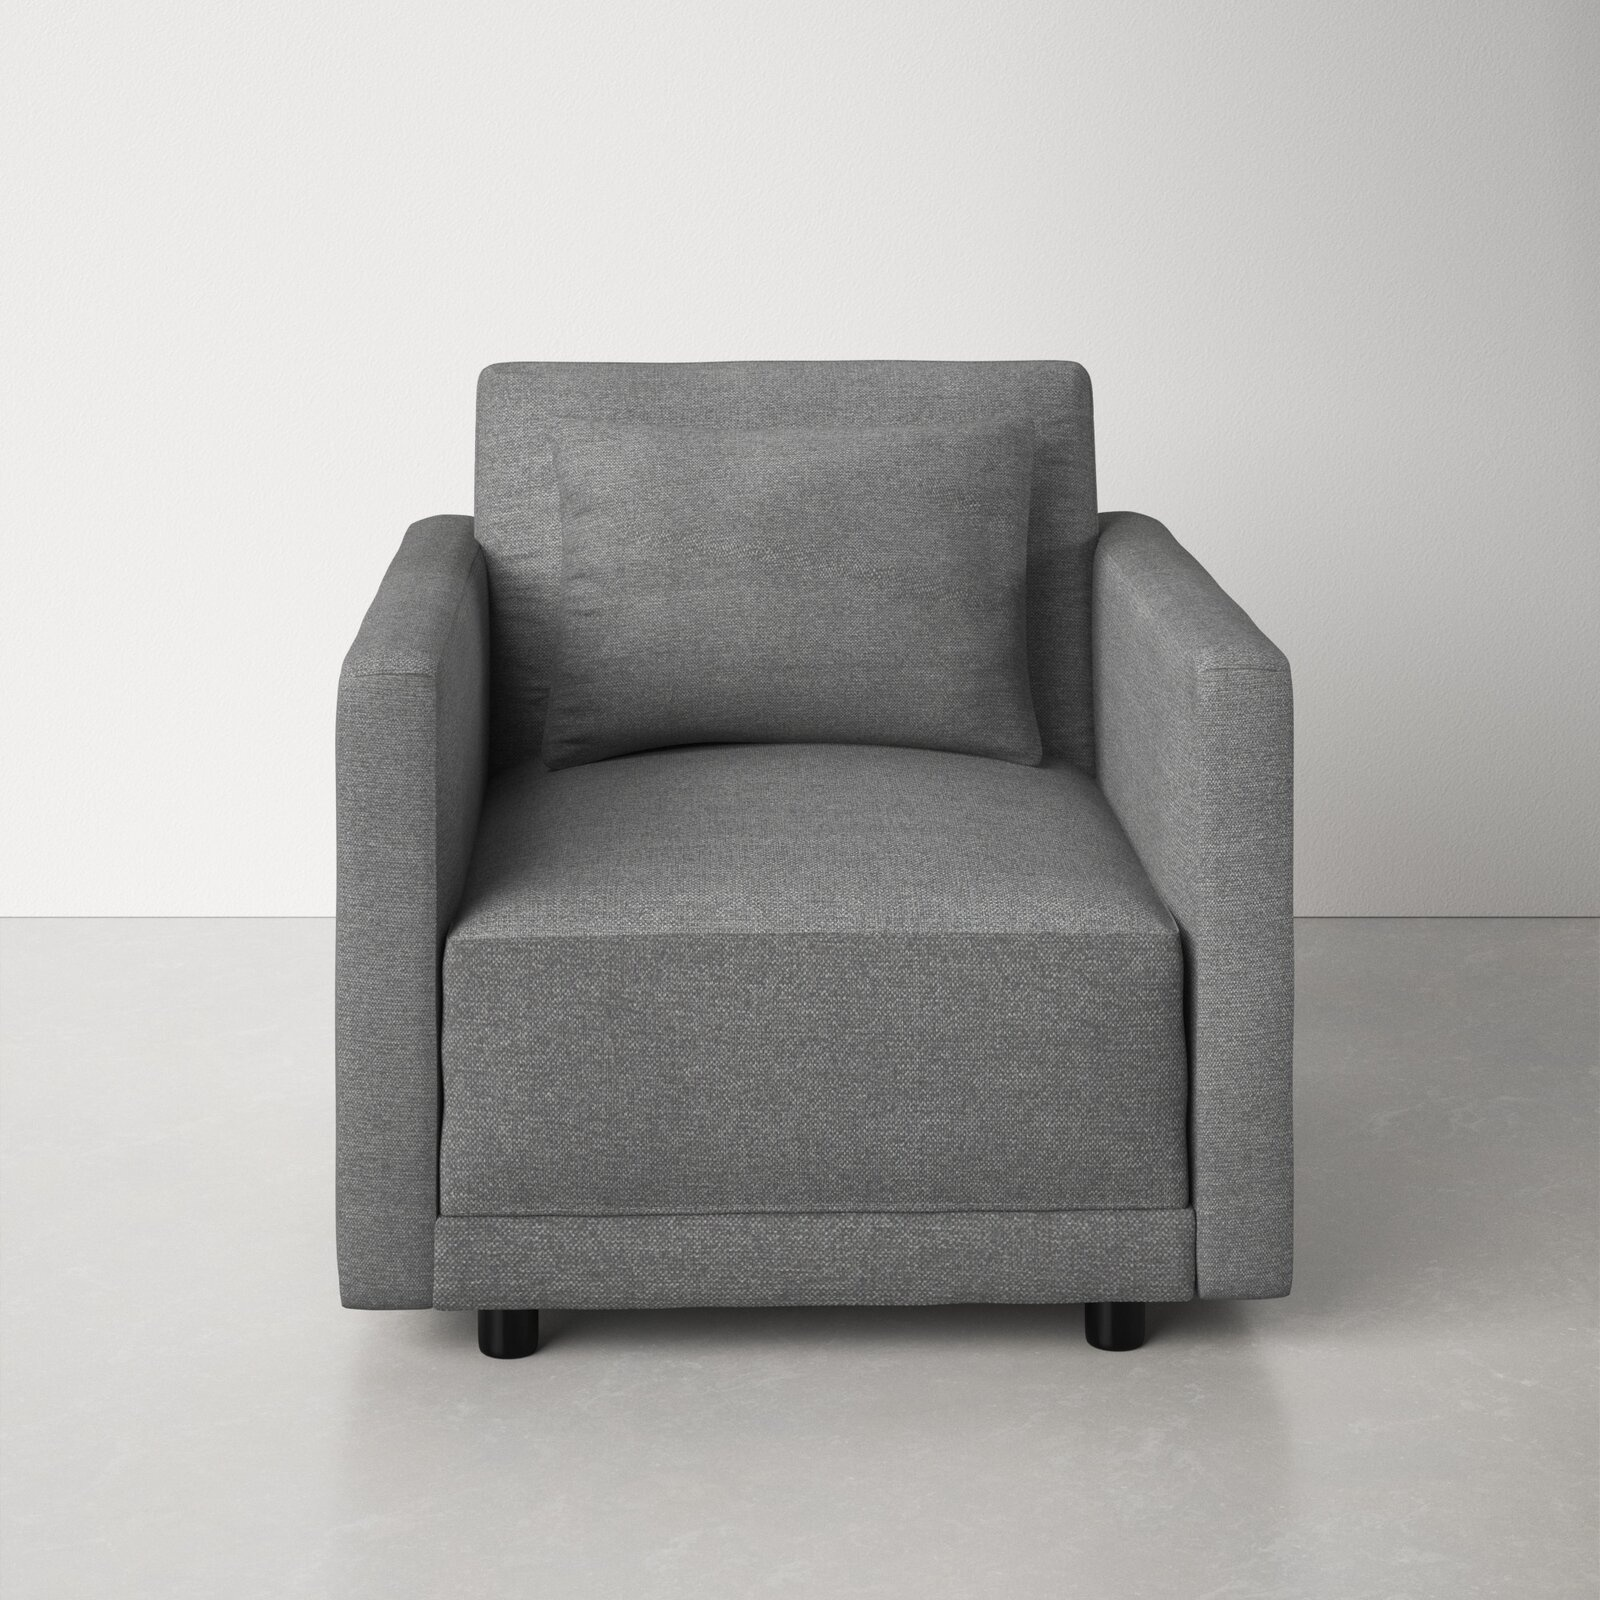obstacle: (337, 362, 1291, 1351)
